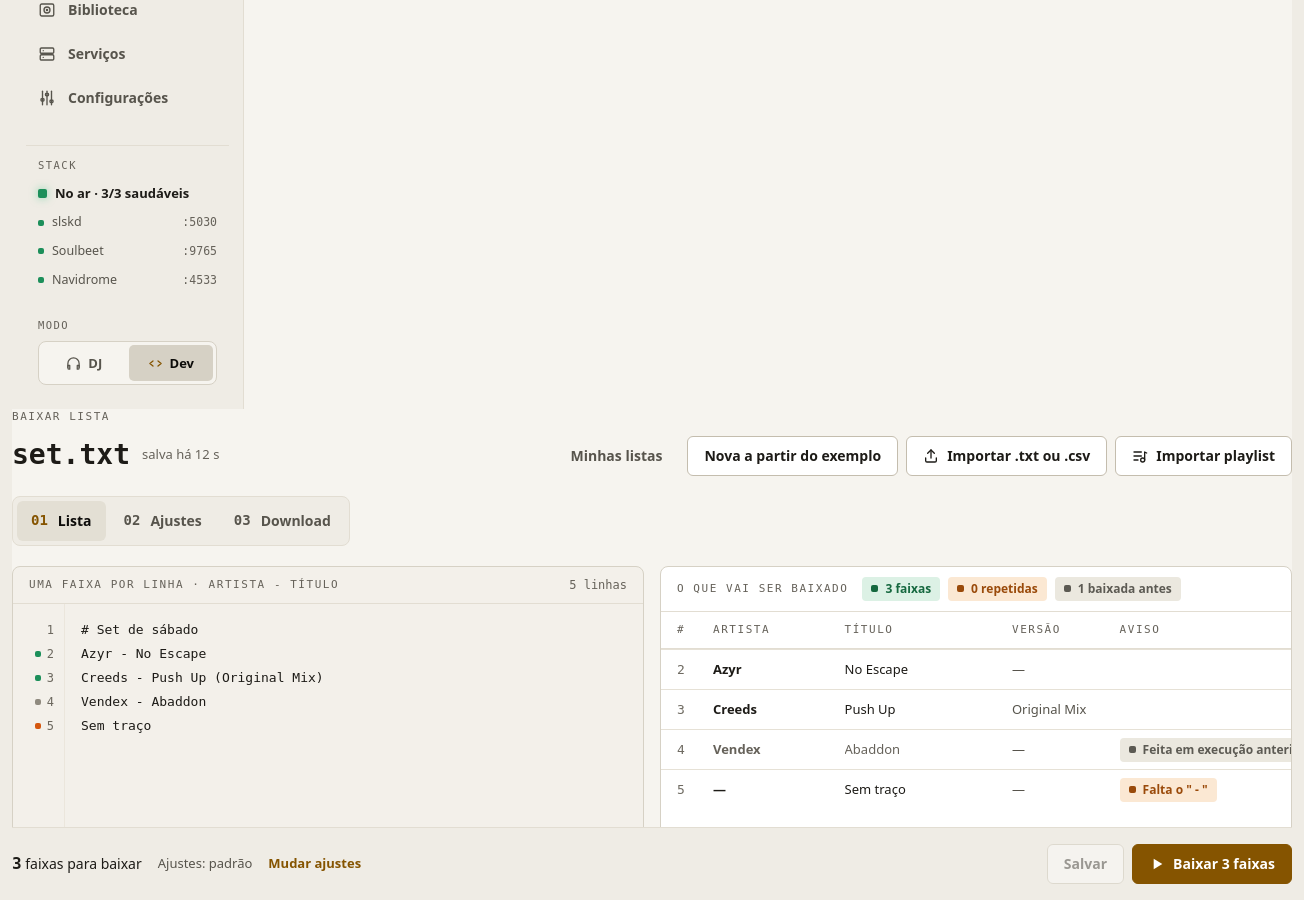
iniciar o lote › lista já rodando (por outro lote): mostra o erro com a ação de ver a execução, e não vai embora
(page scrolled)
Expected: the table with test id "previa-lista" is shown, [661,612,1291,809]
Click the button with test id "iniciar-lote".
click(1212, 864)  # box [1132,844,1292,884]
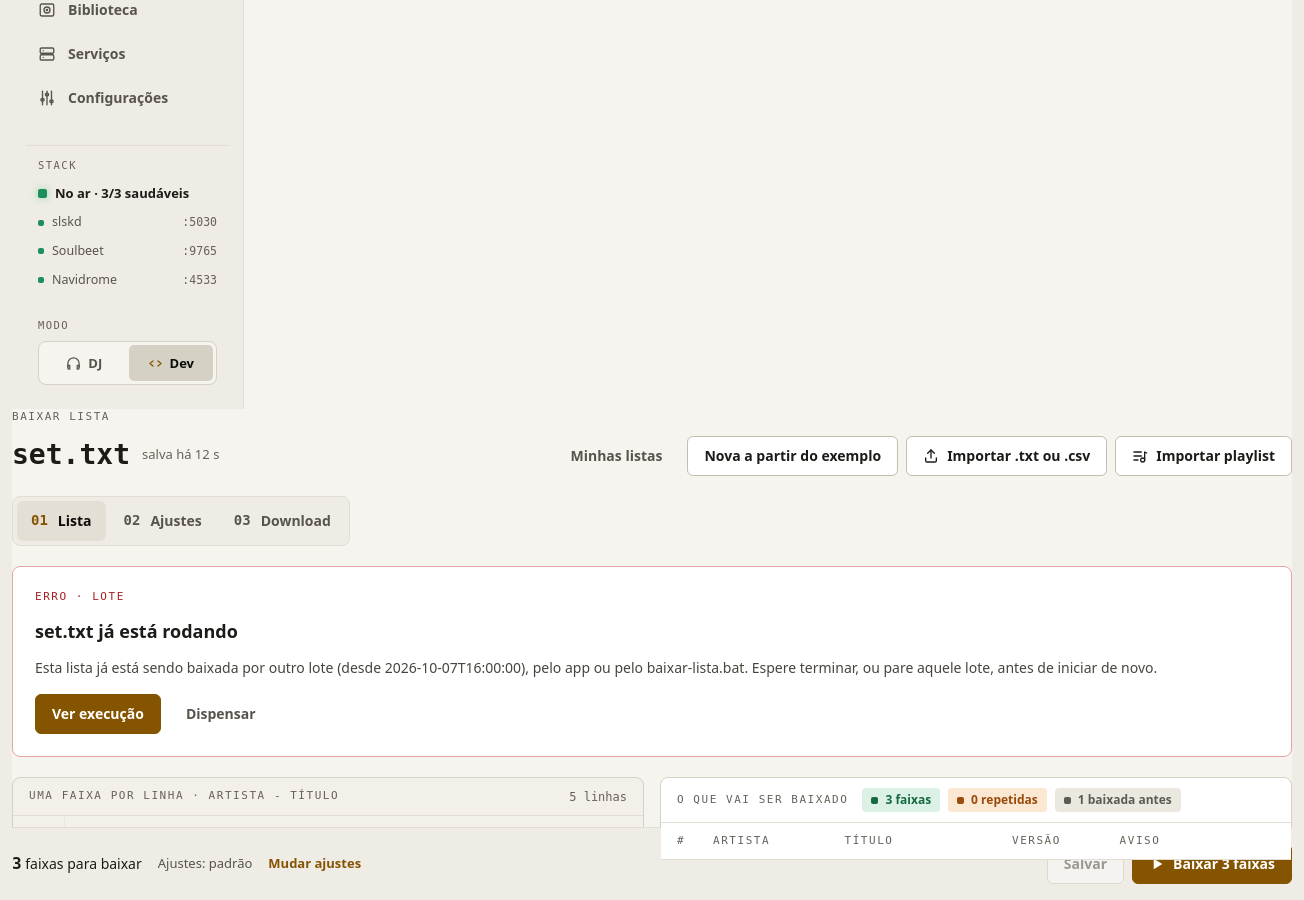
Expected: the message that starts with "Erro · lote" shows "set.txt já está rodando", [35,619,238,643]
Expected: the button "Ver execução" is shown, [35,694,161,734]
